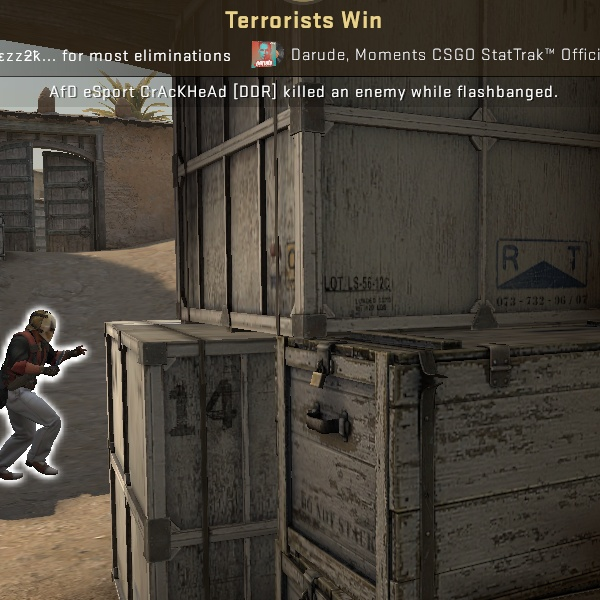t_body: (2, 301, 79, 473)
t_head: (22, 307, 61, 346)
